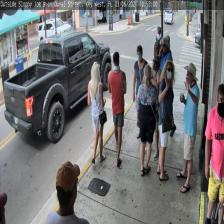person: (176, 62, 200, 193), (46, 161, 90, 223), (206, 82, 224, 224), (136, 66, 158, 176), (108, 51, 127, 166), (157, 60, 174, 180), (142, 55, 162, 157), (87, 61, 106, 163), (158, 37, 176, 137), (132, 44, 149, 139)
